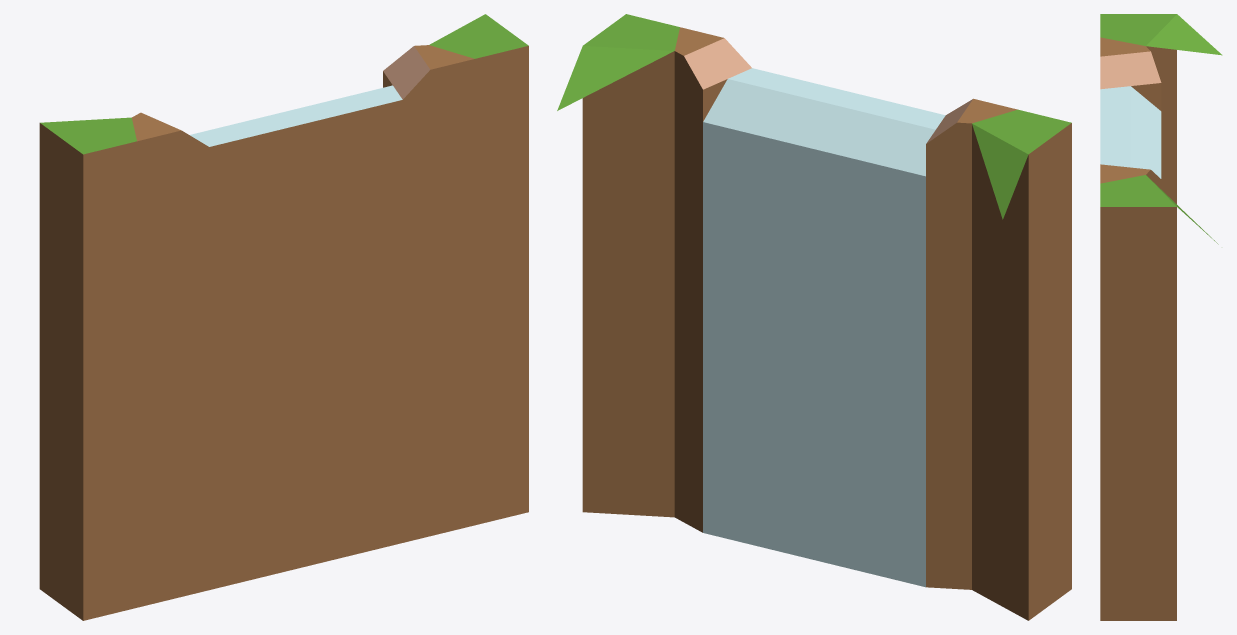
Rendered from cliff_waterfallTop_rock.glb.
The picture shows the model from 3 angles, left to right: view 1: azimuth 30°, elevation 25°; view 2: azimuth 150°, elevation 25°; view 3: azimuth 270°, elevation 25°; orthographic projection. The views are drawn at different scales.
Parts seen in each view (by area): view 1: cliff_waterfallTop_rock; view 2: cliff_waterfallTop_rock; view 3: cliff_waterfallTop_rock.
Boxes of the visible parts, x1,y1,x2,y2 form: cliff_waterfallTop_rock: (39,14,528,620); cliff_waterfallTop_rock: (557,14,1071,620); cliff_waterfallTop_rock: (1100,14,1222,620).
Size of the model in its own units: 1 by 1 by 0.2685.
